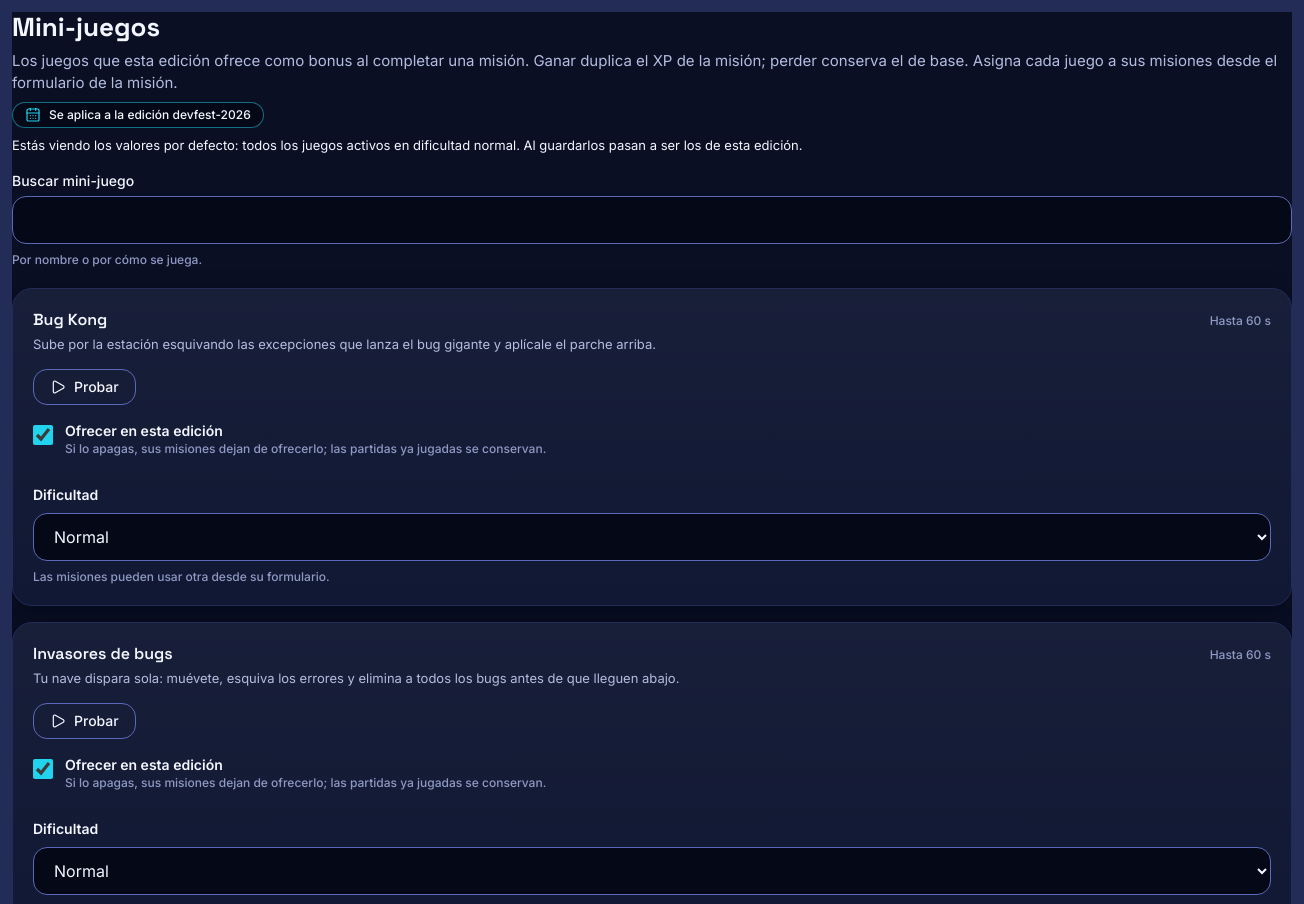
Test: MinigameSettingsView › shows every game with how it is played, whether it is offered, its difficulty and how long it lasts
Expected: the text "Estás viendo los valores por defecto: todos los juegos activos en dificultad normal. Al guardarlos pasan a ser los de es" is shown, [12,137,802,153]
Expected: the element "Bug Kong" shows "Sube por la estación esquivando las excepciones que lanza el bug gigante y aplícale el parche arriba.", [33,336,656,352]
Select "Fácil" in the dropdown labelled "Dificultad" below "Bug Kong". click: (652, 537)
box: [33,513,1271,561]
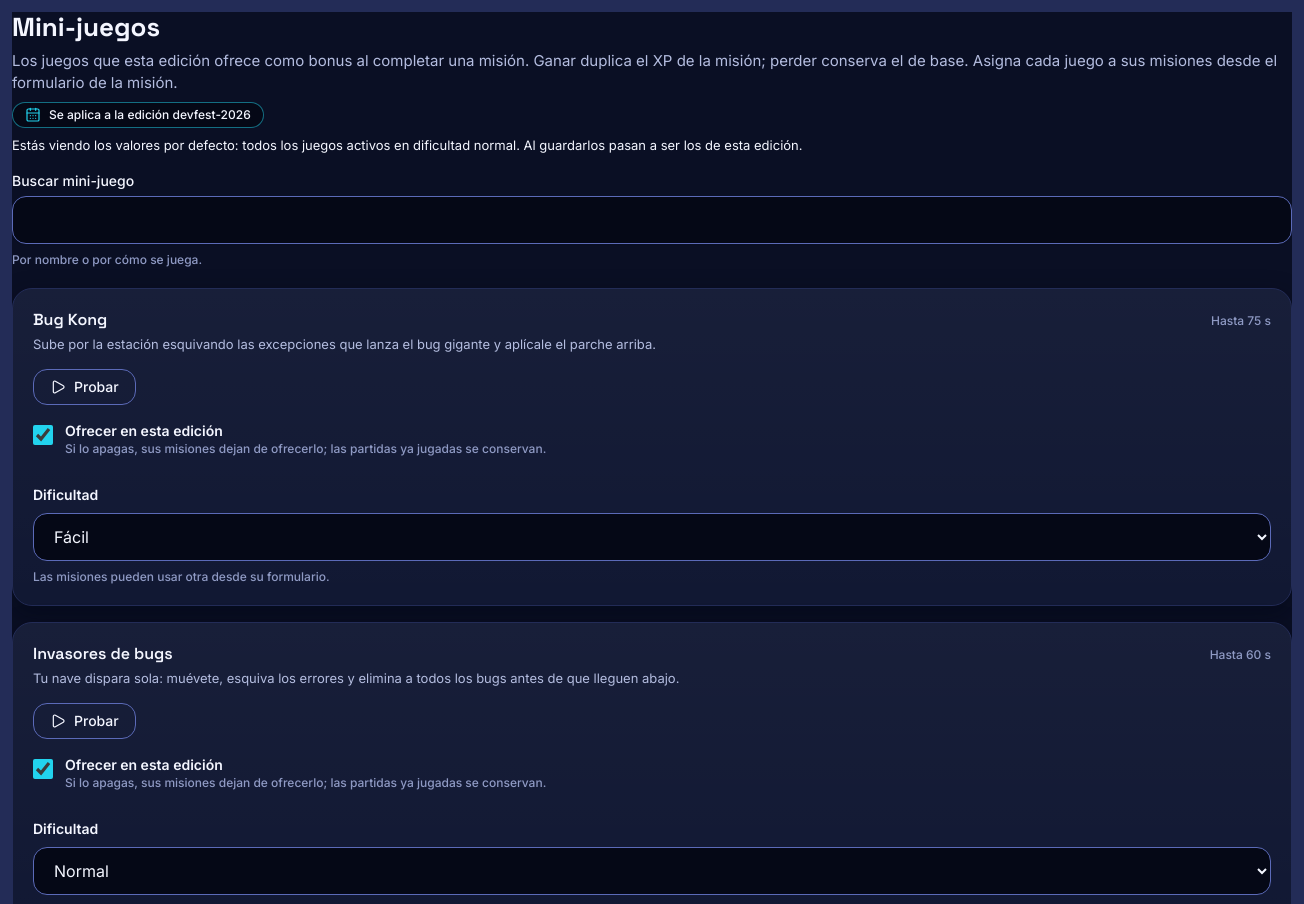
Now the element "Bug Kong" shows "Hasta 75 s", box [1211,313,1271,328]
